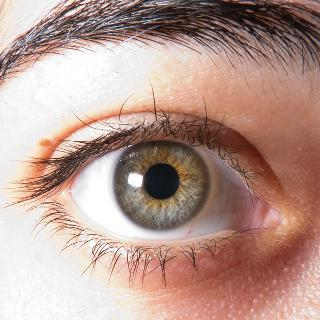pupil: (143, 163, 179, 199)
